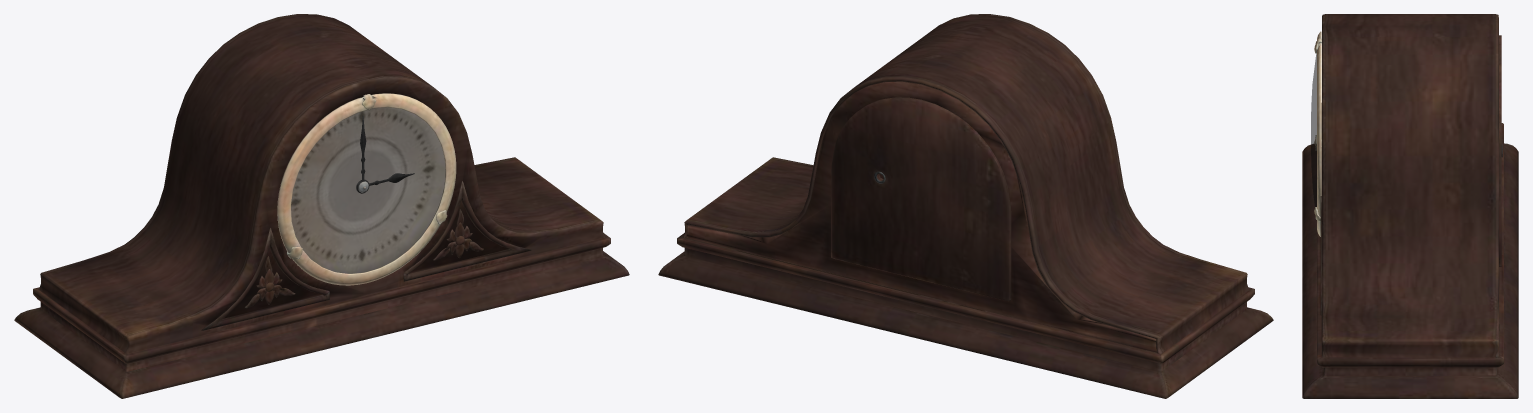
The model's file is mantel_clock_01.gltf.
The picture shows the model from 3 angles, left to right: view 1: azimuth 30°, elevation 25°; view 2: azimuth 150°, elevation 25°; view 3: azimuth 270°, elevation 25°; orthographic projection.
Visible parts, largest first — view 1: mantel_clock_01, mantel_clock_01_glass; view 2: mantel_clock_01; view 3: mantel_clock_01, mantel_clock_01_glass.
Part boxes in pixels (<box>): mantel_clock_01: <box>14,14,629,398</box>; mantel_clock_01_glass: <box>291,107,445,273</box>; mantel_clock_01: <box>658,14,1273,398</box>; mantel_clock_01: <box>1302,14,1518,398</box>; mantel_clock_01_glass: <box>1311,54,1316,206</box>.
Size of the model in its own units: 0.3424 by 0.1605 by 0.1262.
2 materials, 2 textured.
